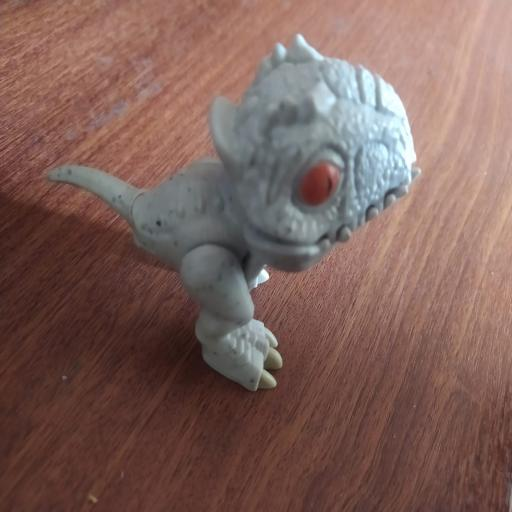Dinosaurio: (36, 28, 430, 404)
